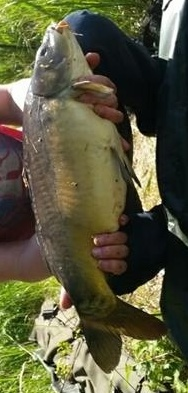Cyprinus carpio: (20, 20, 168, 373)
